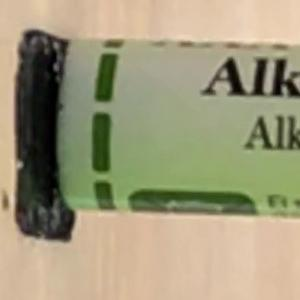keyword: (171, 35, 294, 56)
